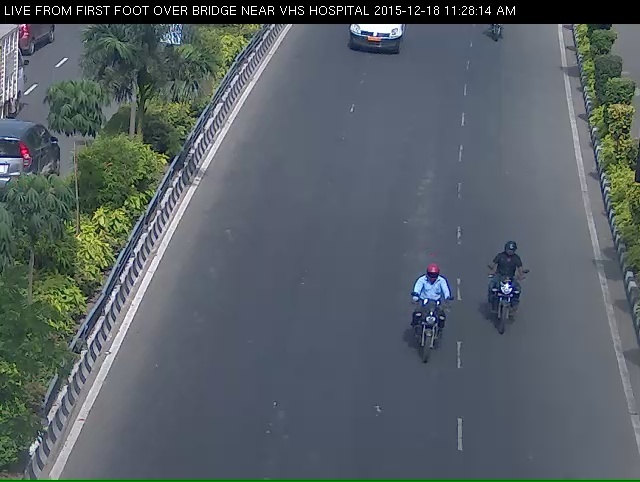Person: (398, 279, 454, 383), (487, 250, 534, 357)
